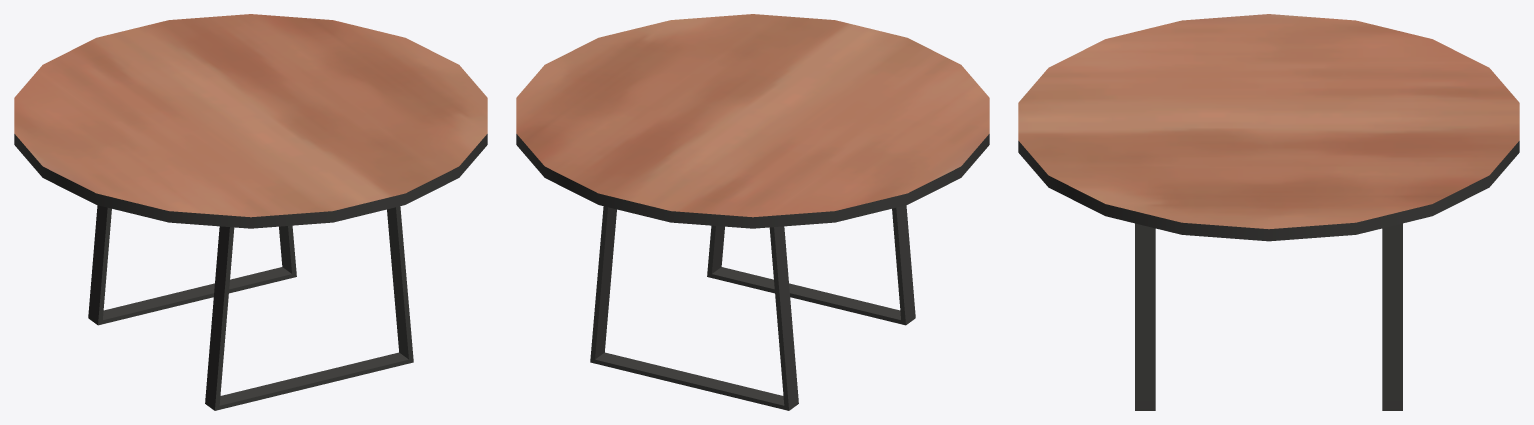
The model's file is Table_Round.fbx.
3 views of the same model, side by side, from view 1: azimuth 30°, elevation 25°; view 2: azimuth 150°, elevation 25°; view 3: azimuth 270°, elevation 25° (orthographic). The views are drawn at different scales.
Parts seen in each view (by area): view 1: Table_Round; view 2: Table_Round; view 3: Table_Round.
Boxes of the visible parts, <box> form: Table_Round: <box>14,14,487,410</box>; Table_Round: <box>516,14,989,410</box>; Table_Round: <box>1018,14,1519,410</box>.
Size of the model in its own units: 209 by 108 by 206.
